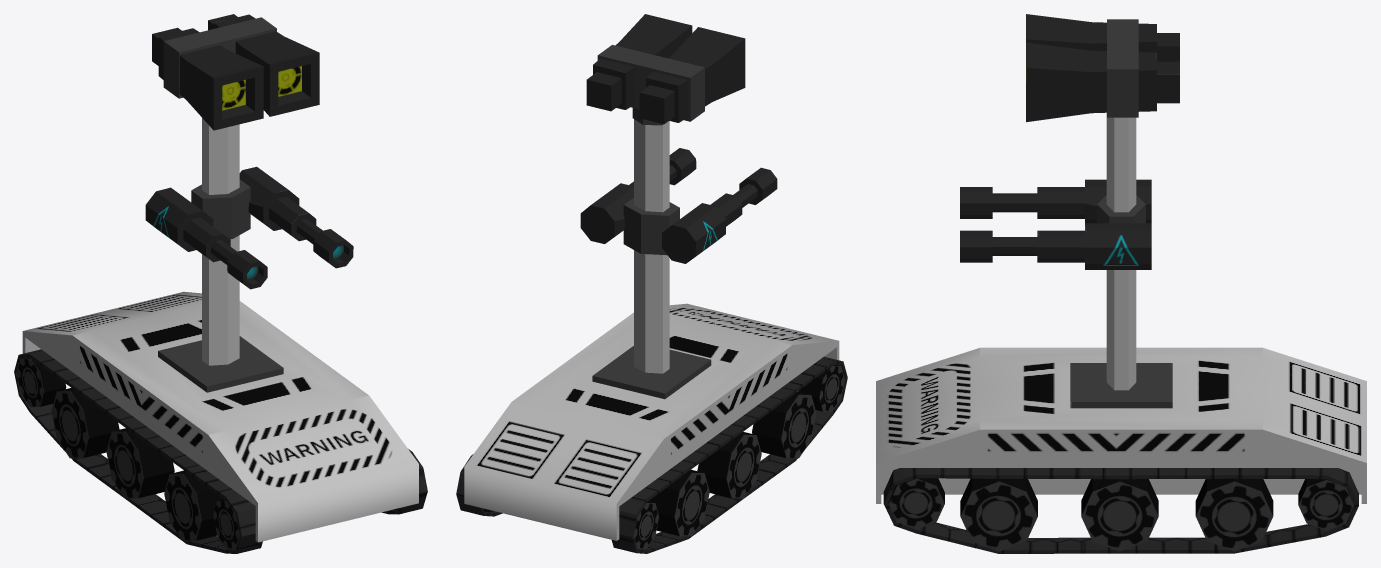
File: Guard_Robot_OnePiece.fbx
3 renders of one model, left to right at view 1: azimuth 30°, elevation 25°; view 2: azimuth 150°, elevation 25°; view 3: azimuth 270°, elevation 25°, orthographic. The views are drawn at different scales.
Visible parts, largest first — view 1: Robot_OnePiece; view 2: Robot_OnePiece; view 3: Robot_OnePiece.
Boxes of the visible parts, x1,y1,x2,y2 form: Robot_OnePiece: (14, 14, 427, 553); Robot_OnePiece: (456, 14, 847, 553); Robot_OnePiece: (876, 14, 1366, 553).
Size of the model in its own units: 175 by 385 by 368.
1 material, 1 textured.
